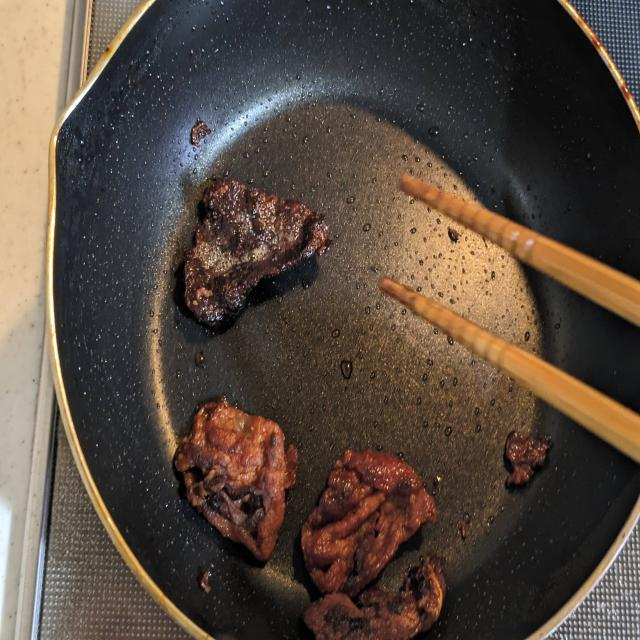overcooked beef,: (172, 171, 338, 333), (298, 545, 456, 640)
overcooked pork: (291, 435, 447, 598), (169, 392, 304, 569)
